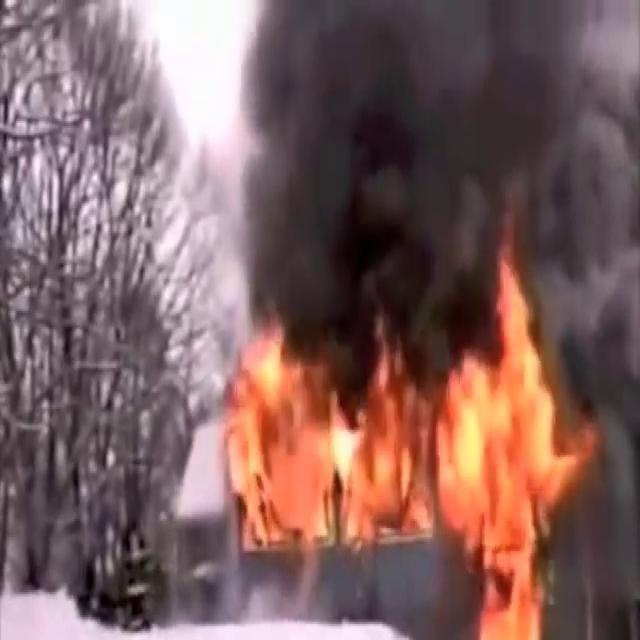Fire: (214, 256, 587, 624)
Smoke: (198, 1, 640, 366)
